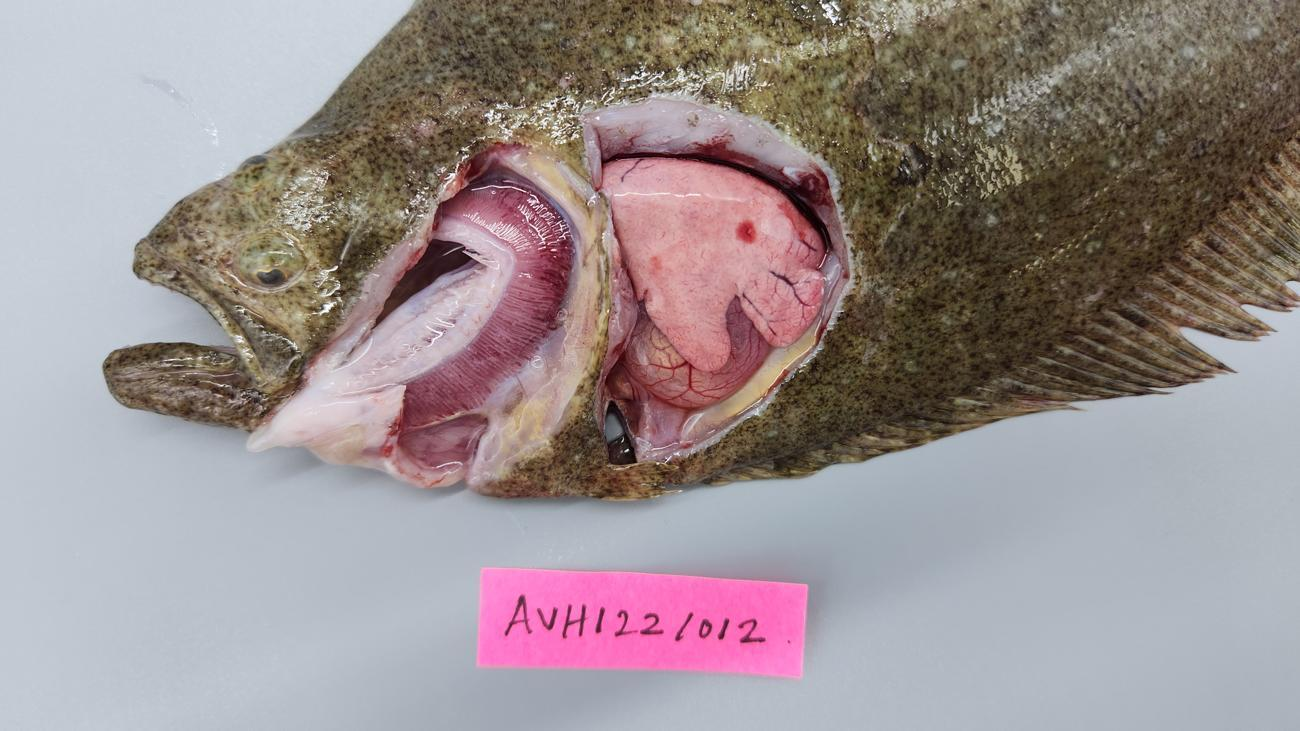VIGIP: (403, 182, 573, 429)
